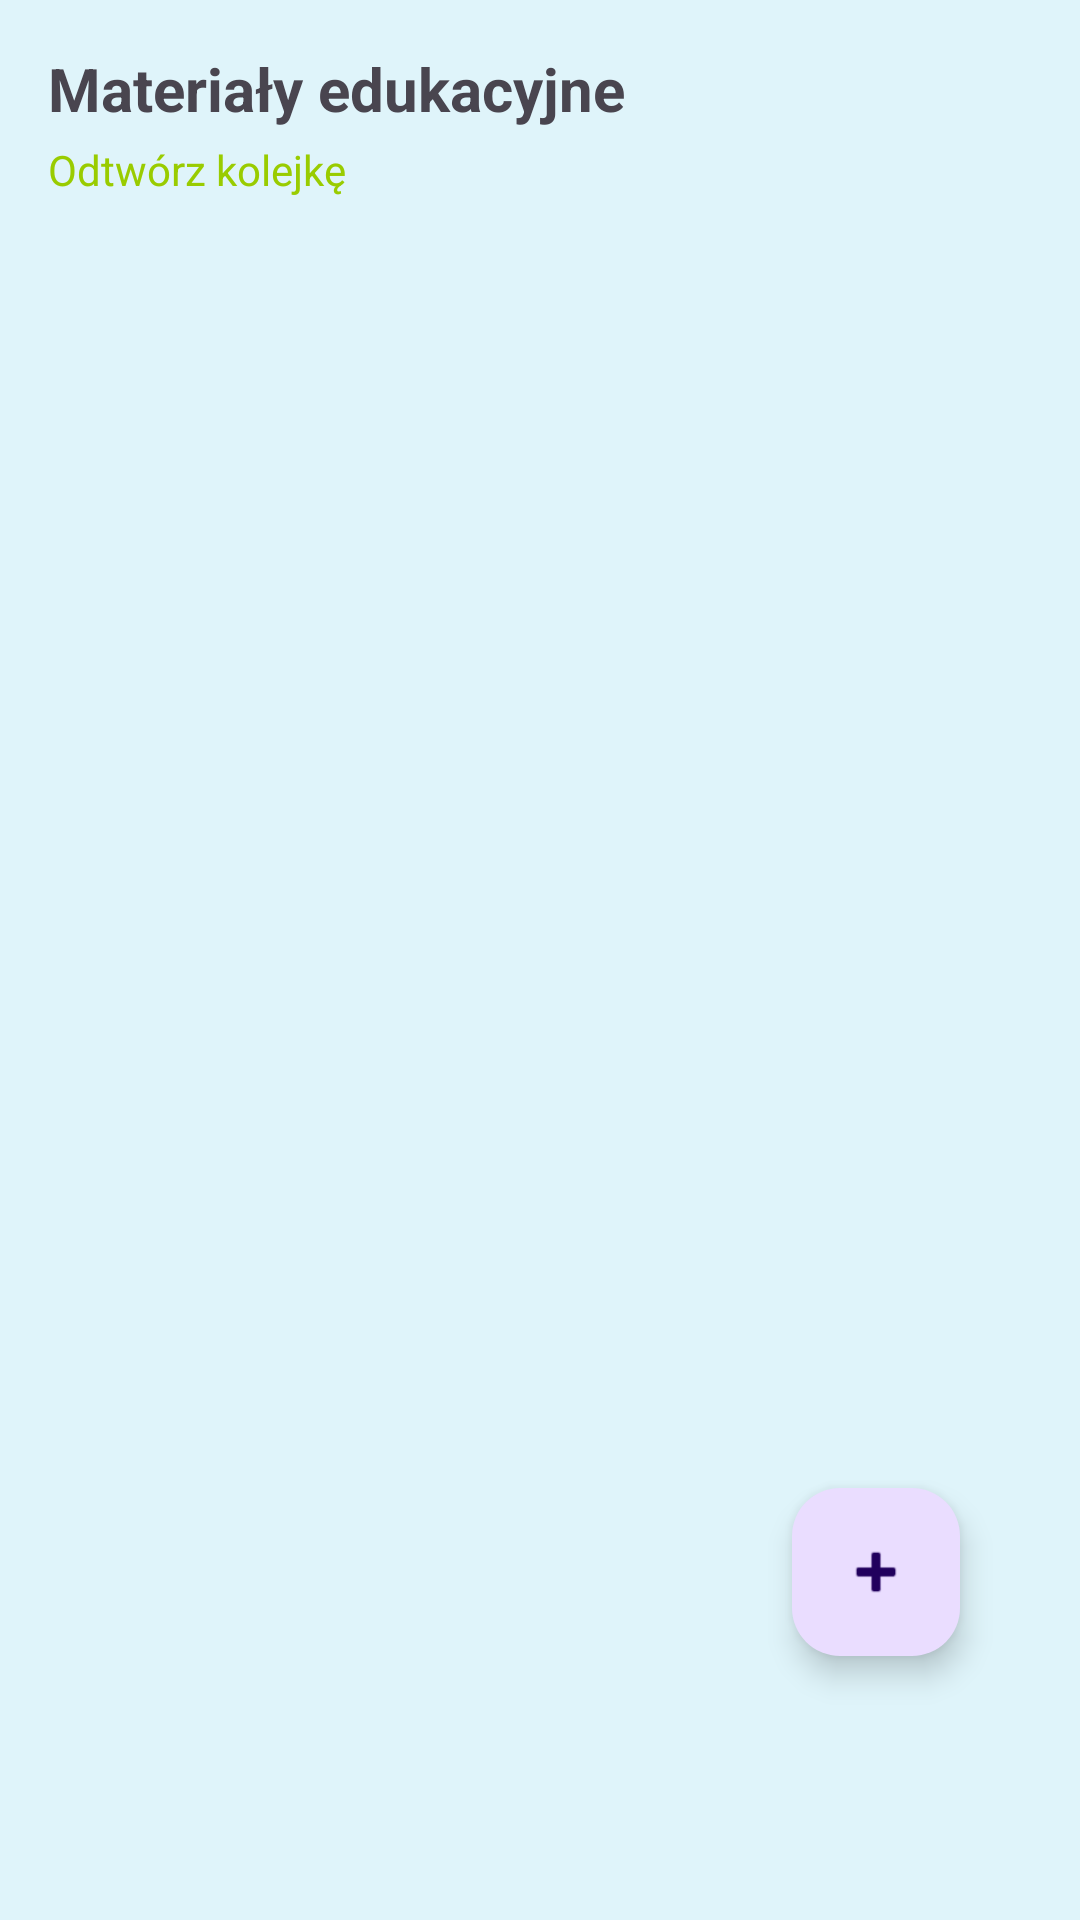

Icon click points for this 1080 × 1920 phone screenshot, format (x=x, y=y):
Dodaj materiał edukacyjny: (x=876, y=1572)
